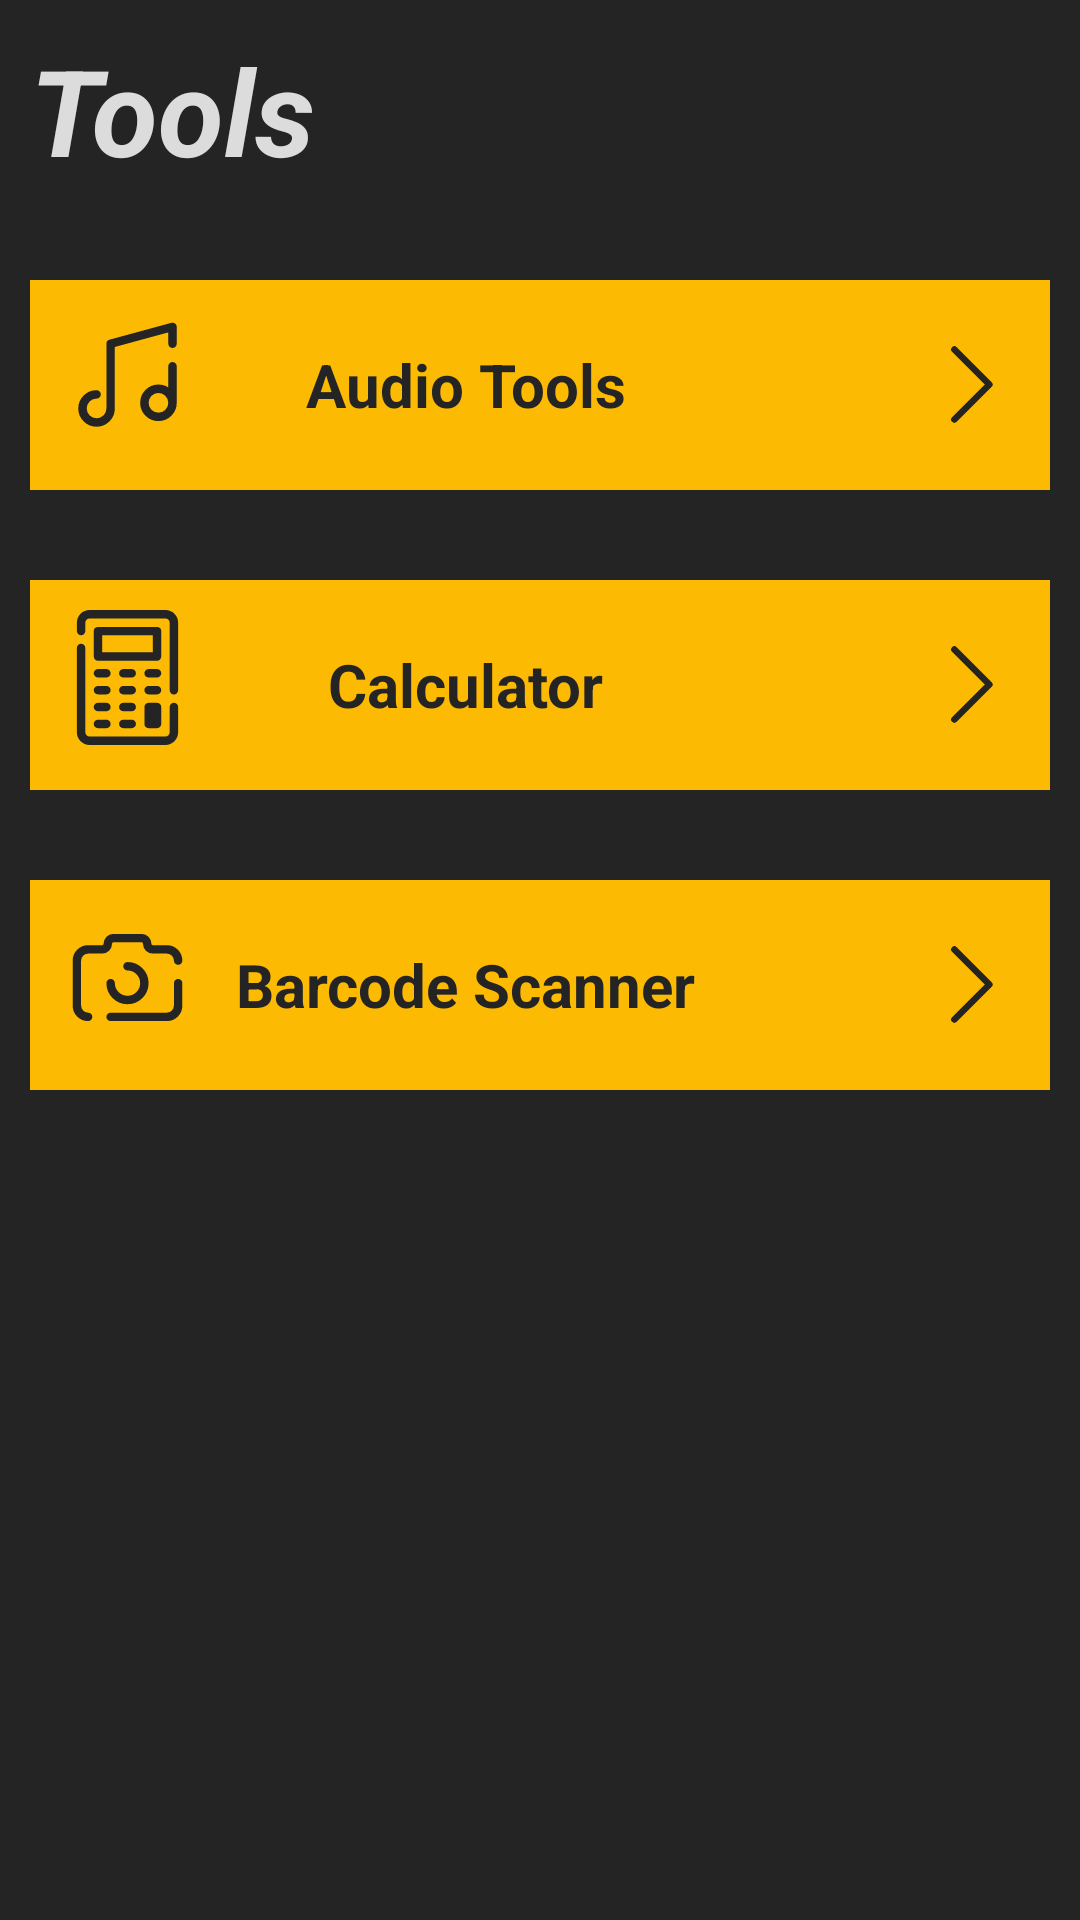

Point at icon controls on the screen. Image size 1080x1920, points as (x,y).
camera: (127,977)
caret: (972,384), (972,684), (972,984)
